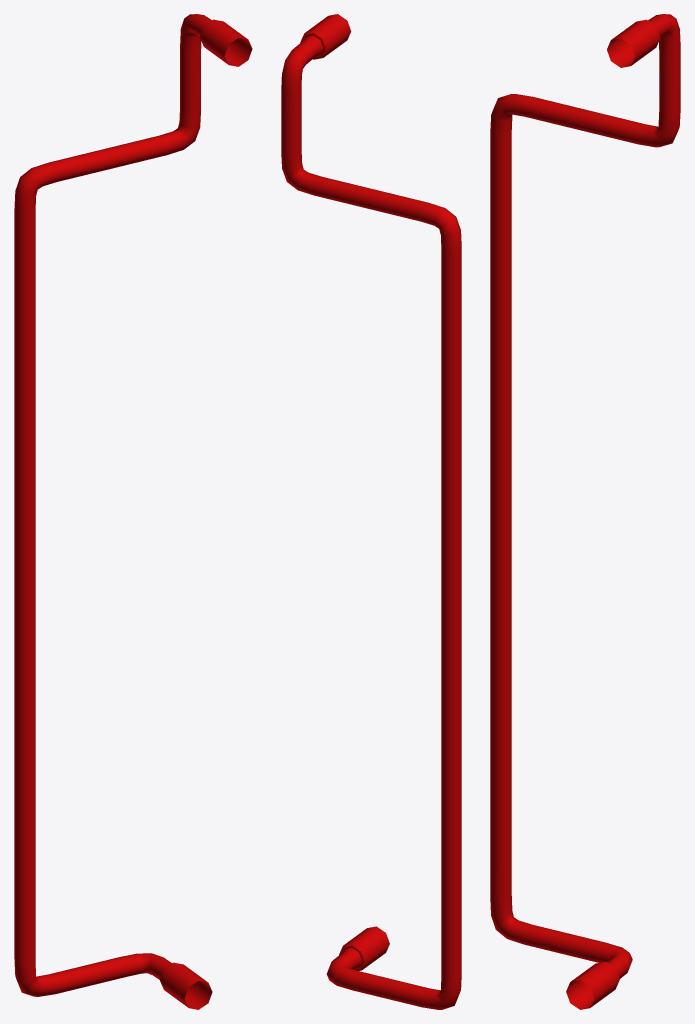
The model's file is Wire_Head_Red(24V-SS).obj.
The picture shows the model from 3 angles, left to right: view 1: azimuth 30°, elevation 25°; view 2: azimuth 150°, elevation 25°; view 3: azimuth 330°, elevation 25°; orthographic projection. The views are drawn at different scales.
Visible parts, largest first — view 1: Wire_Head_Red(24V-SS); view 2: Wire_Head_Red(24V-SS); view 3: Wire_Head_Red(24V-SS).
Boxes of the visible parts, x1=… form: Wire_Head_Red(24V-SS): x1=14, y1=14, x2=252, y2=1009; Wire_Head_Red(24V-SS): x1=281, y1=14, x2=461, y2=1009; Wire_Head_Red(24V-SS): x1=490, y1=14, x2=680, y2=1009.
Size of the model in its own units: 0.0405 by 0.1975 by 0.0198.
